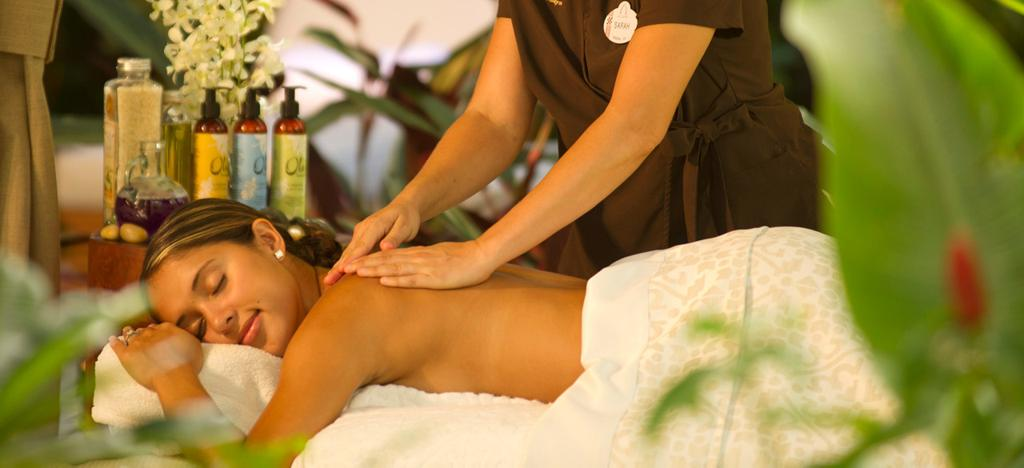face: (166, 254, 288, 366)
